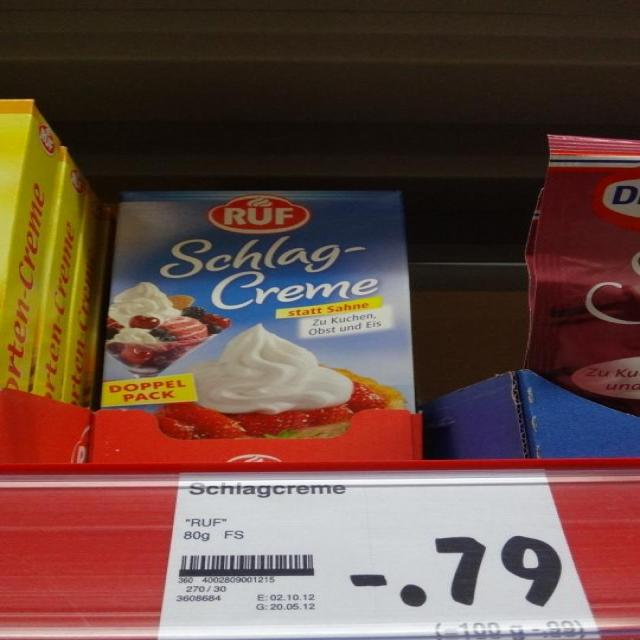Cream: (102, 191, 412, 440)
